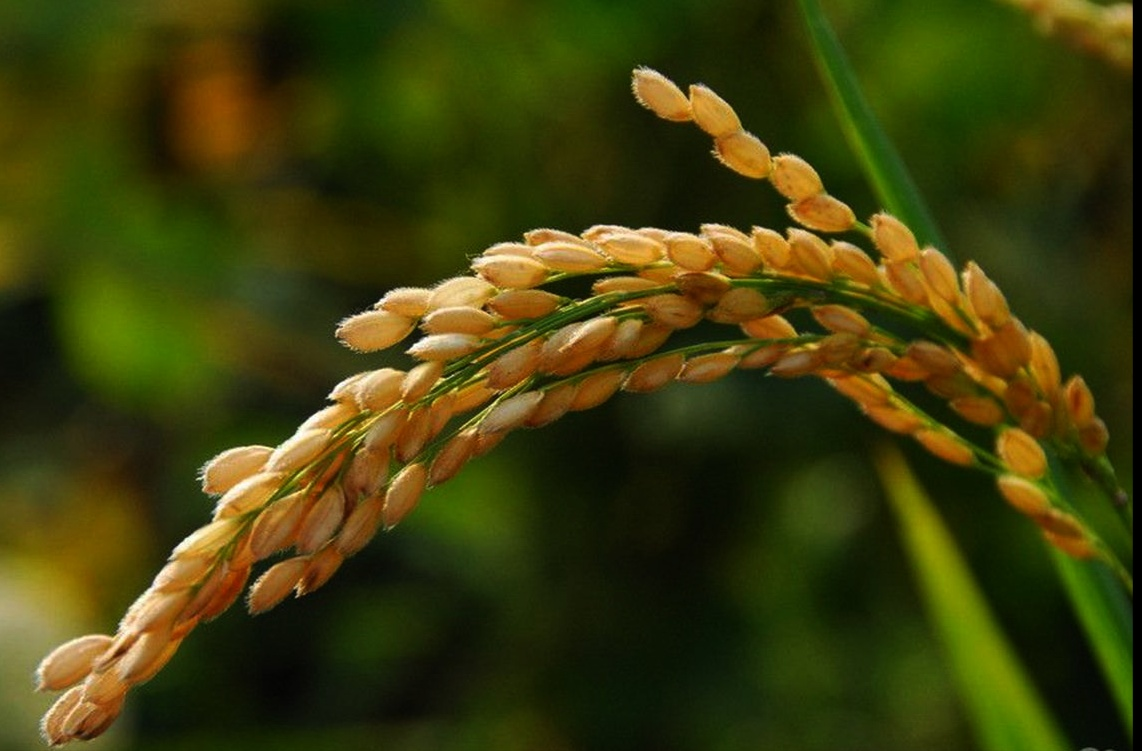rice: (25, 8, 1105, 749)
